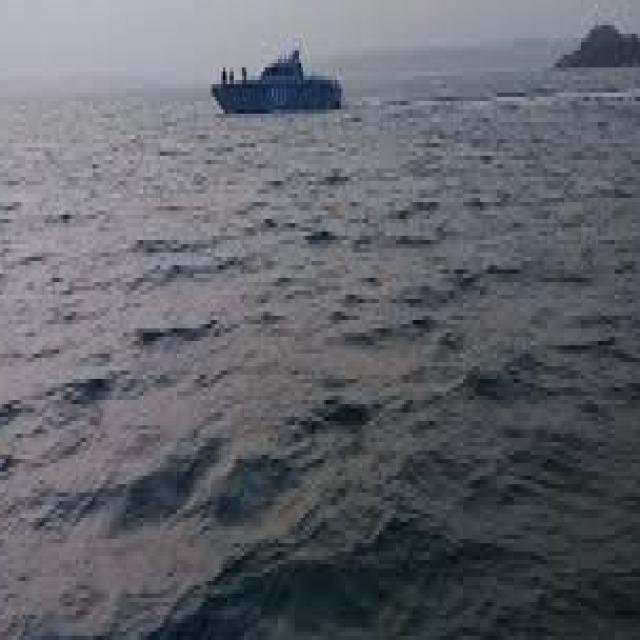houseboat: (213, 32, 346, 113)
